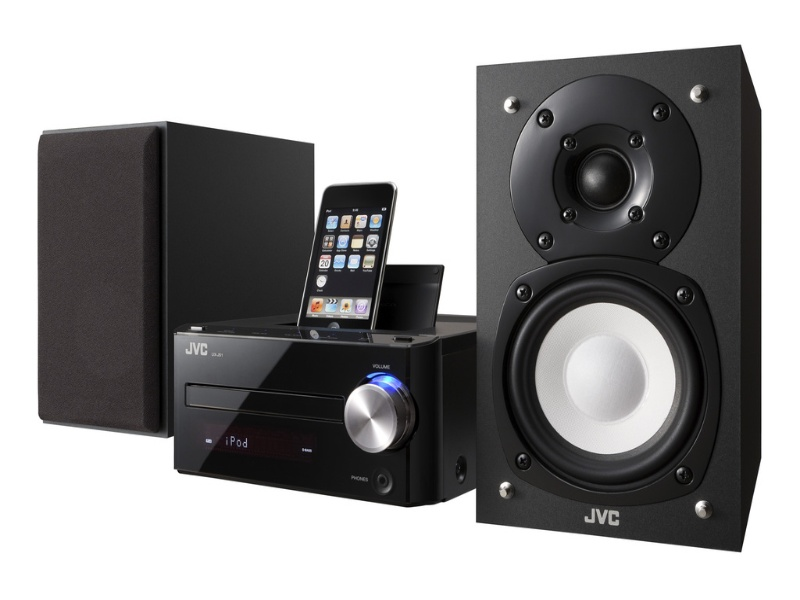cellphone: (295, 179, 398, 332)
